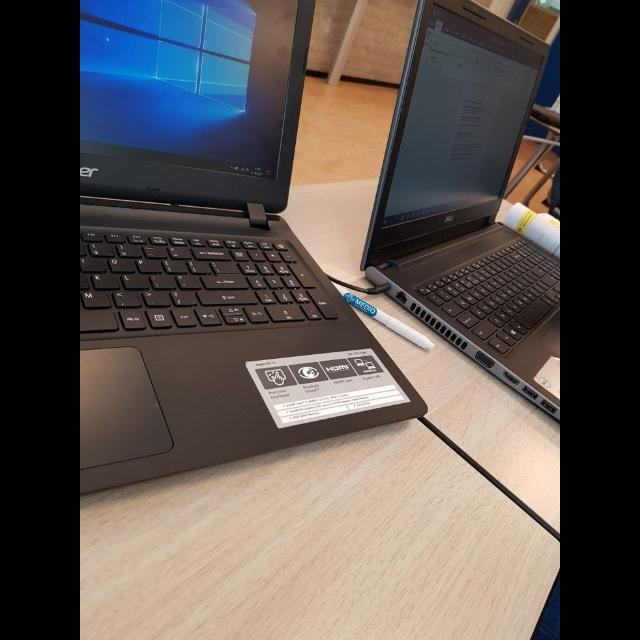laptop: (80, 0, 427, 492), (361, 0, 560, 421)
